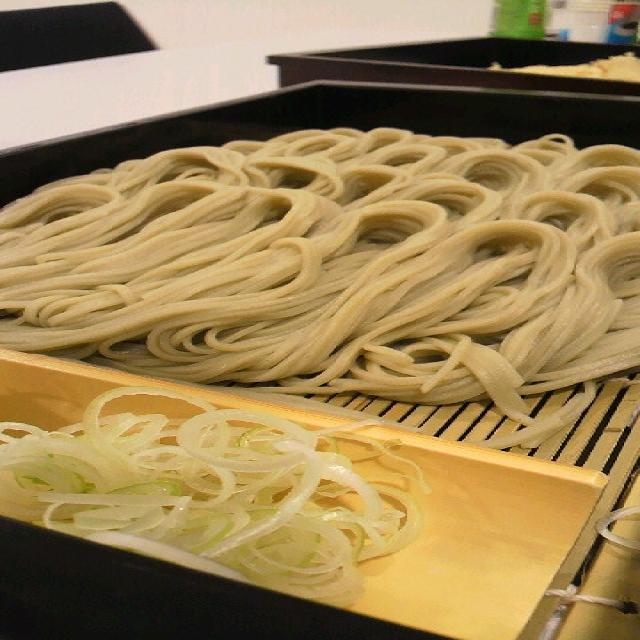面条主食: (20, 18, 628, 610)
